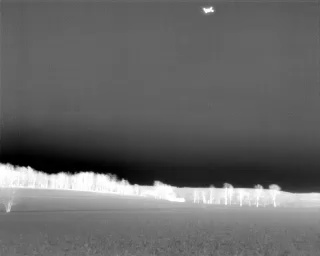DRONE: (198, 2, 218, 18)
